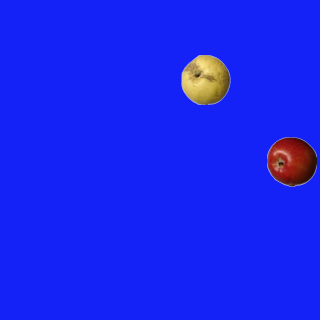Apple Braeburn: (266, 136, 316, 186)
Apple Golden 1: (180, 54, 230, 104)
